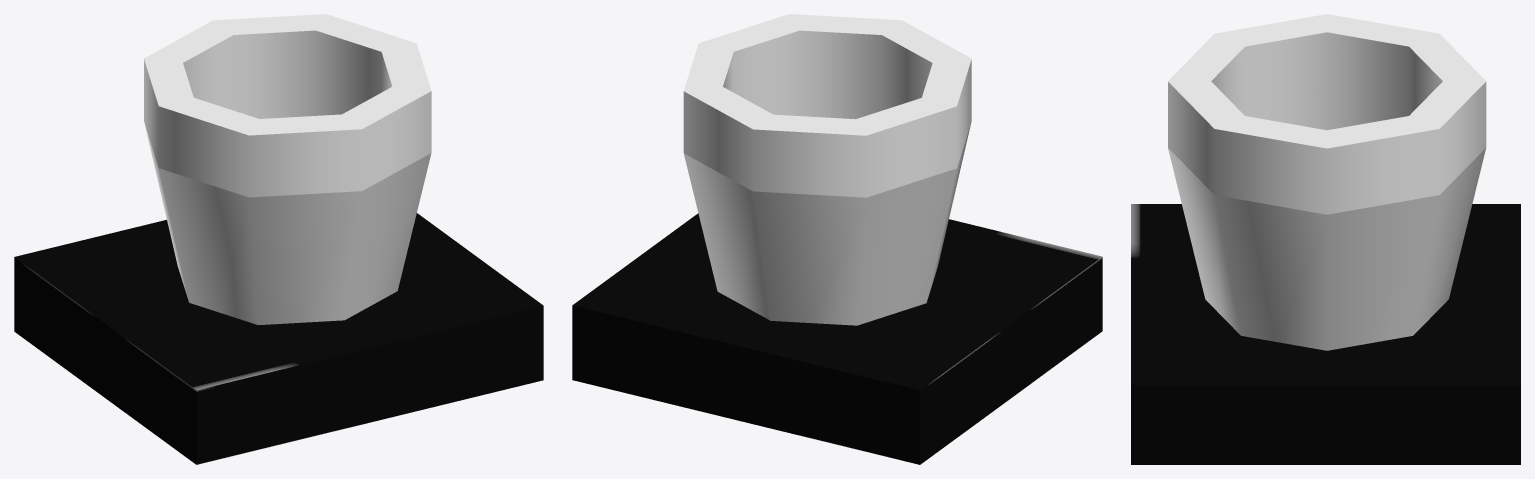
Rendered from CoffeeMug.fbx.
The picture shows the model from 3 angles, left to right: view 1: azimuth 30°, elevation 25°; view 2: azimuth 150°, elevation 25°; view 3: azimuth 270°, elevation 25°; orthographic projection. The views are drawn at different scales.
Visible parts, largest first — view 1: pCylinder2.001; view 2: pCylinder2.001; view 3: pCylinder2.001.
Boxes of the visible parts, box(x1,y1,x2,y2) form: pCylinder2.001: box(14, 14, 543, 464); pCylinder2.001: box(572, 14, 1102, 464); pCylinder2.001: box(1131, 14, 1520, 464).
Size of the model in its own units: 2.68 by 2.05 by 2.44.
